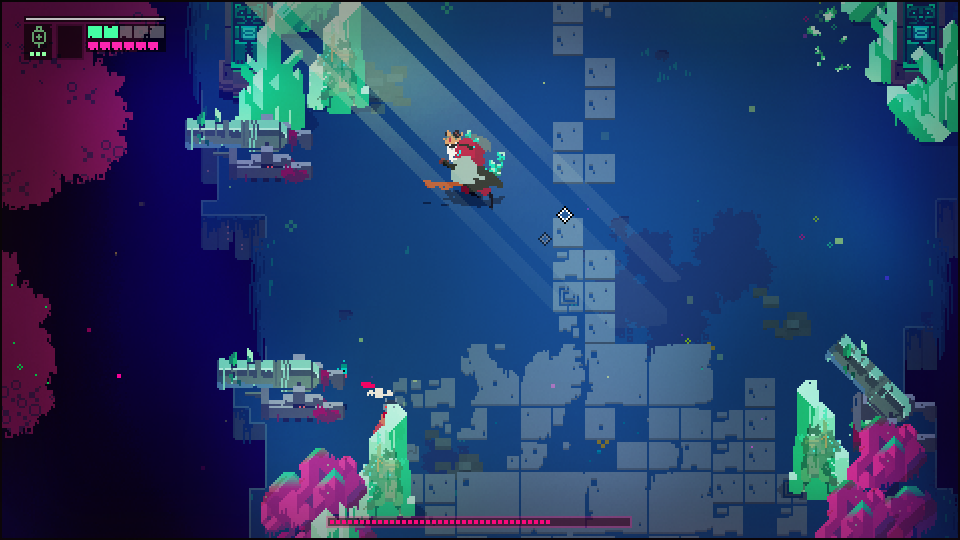hanged_man: (424, 119, 507, 202)
